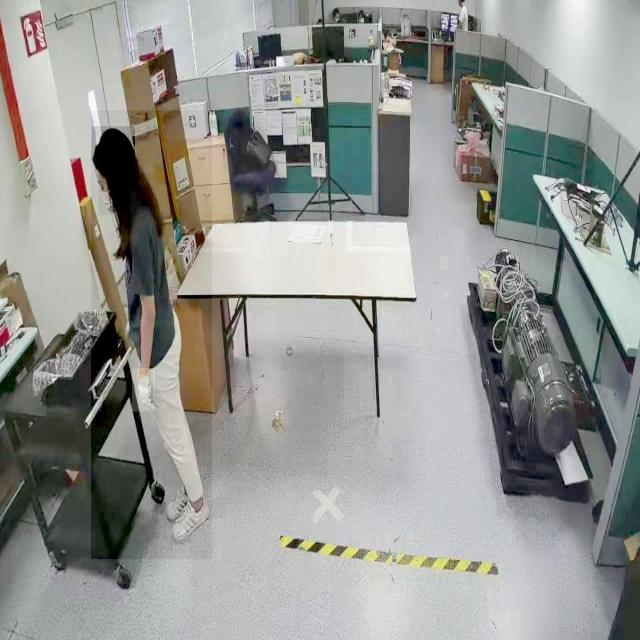face_mask: (98, 169, 114, 215)
hand_glove: (132, 368, 156, 412)
head_nohelmet: (91, 126, 136, 161)
person: (91, 110, 213, 560)
shoes: (170, 492, 211, 546), (164, 480, 197, 522)
